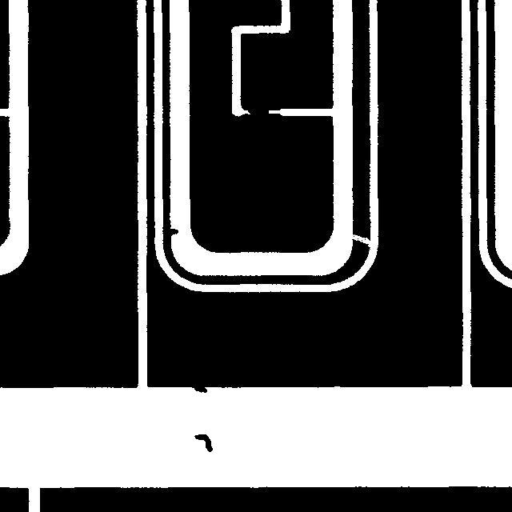copper: (186, 426, 220, 459)
open: (343, 226, 380, 254)
short: (240, 98, 276, 124)
spur: (183, 375, 214, 400), (161, 221, 186, 243)
